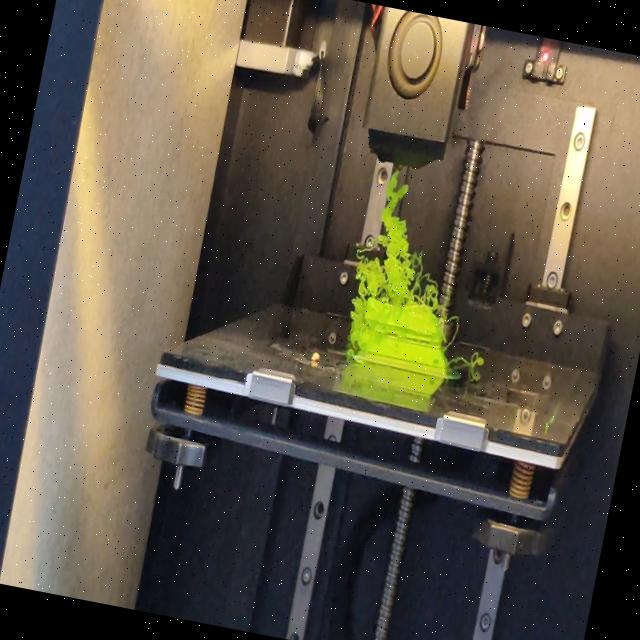spaghetti: (351, 166, 472, 318), (340, 297, 371, 358), (445, 346, 490, 376), (442, 308, 464, 352)
